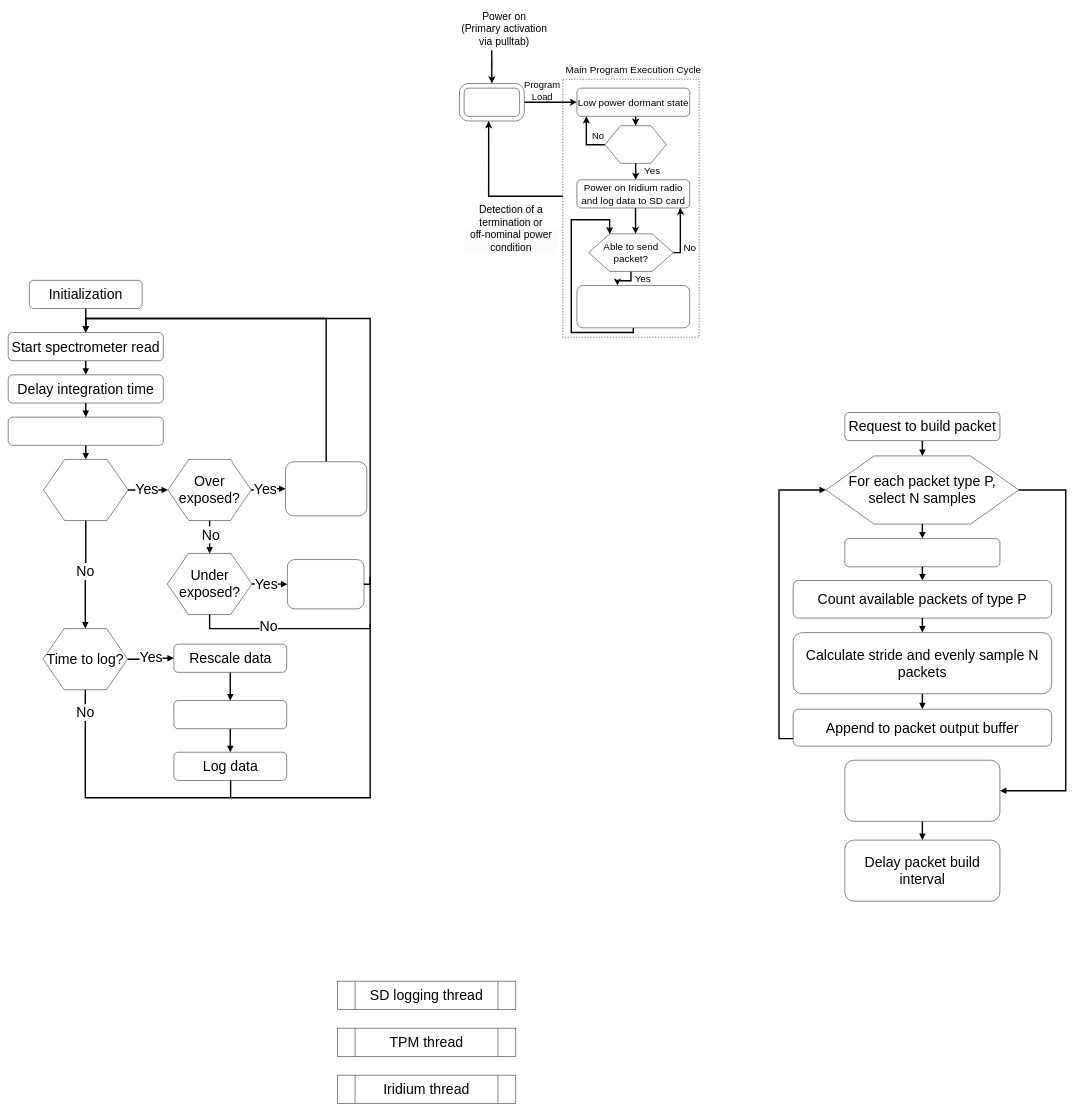
Some shapes in this 1078 by 1112 pixel diagram are drawn without their labels. The shapes that lost their labels are listed below. From the top down, each one's centre as x and y in pixels, then its label:
the point at 491,102: Safe reset state
the point at 635,144: KREM separation
the point at 633,306: Build packet from logged data and send via Iridium radio
the point at 85,431: Read pixel data
the point at 85,490: Time for AGC?
the point at 326,488: decrease integration time
the point at 922,552: Open log file
the point at 325,584: increase integration time
the point at 230,714: Bin data
the point at 922,790: Place built packet into global Iridium buffer
